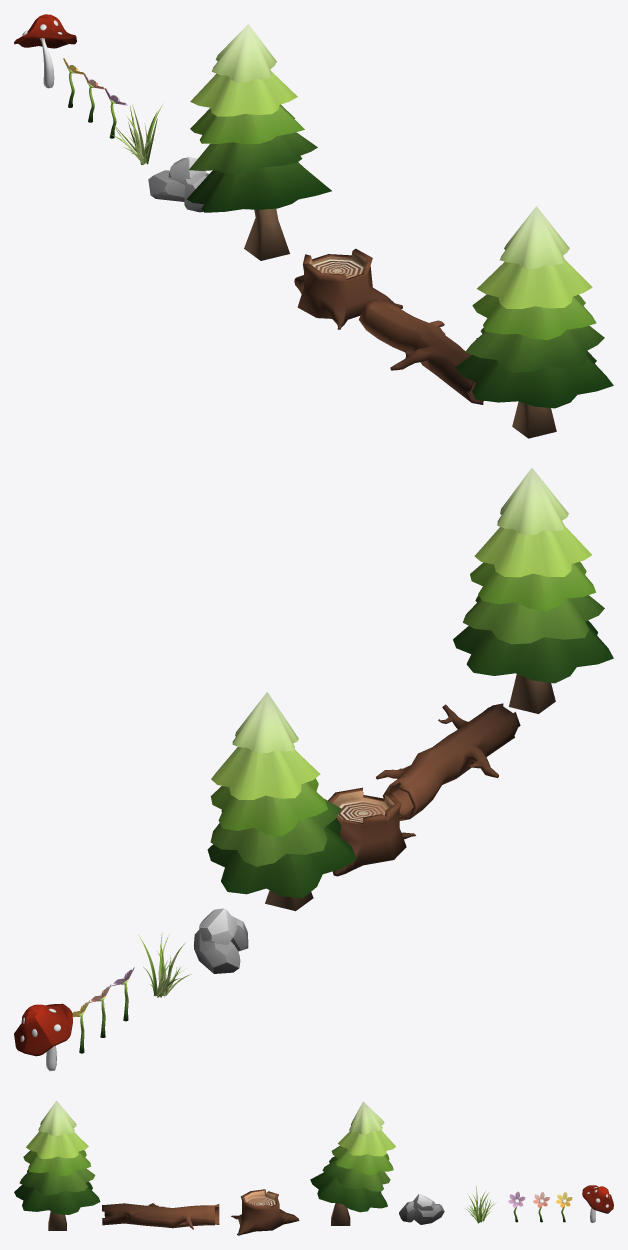
Rendered from NATURE (1).fbx.
The picture shows the model from 3 angles, top to bottom: view 1: azimuth 30°, elevation 25°; view 2: azimuth 150°, elevation 25°; view 3: azimuth 270°, elevation 25°; orthographic projection. The views are drawn at different scales.
Visible parts, largest first — view 1: Circle, Circle.005, Circle.010, Circle.011, Sphere.002, Sphere.008, Plane.001; view 2: Circle, Circle.005, Circle.010, Circle.011, Sphere.002, Sphere.008, Plane.001; view 3: Circle, Circle.005, Circle.010, Circle.011, Sphere.002, Sphere.008, Plane.001, Circle.003, Circle.017.
Part boxes in pixels (x1=…): Circle: x1=455, y1=206, x2=613, y2=438; Circle.005: x1=186, y1=24, x2=331, y2=260; Circle.010: x1=359, y1=298, x2=484, y2=404; Circle.011: x1=294, y1=248, x2=402, y2=329; Sphere.002: x1=148, y1=157, x2=209, y2=212; Sphere.008: x1=14, y1=14, x2=76, y2=88; Plane.001: x1=110, y1=103, x2=163, y2=164; Circle: x1=453, y1=468, x2=613, y2=713; Circle.005: x1=207, y1=692, x2=356, y2=911; Circle.010: x1=376, y1=703, x2=520, y2=820; Circle.011: x1=328, y1=787, x2=415, y2=876; Sphere.002: x1=193, y1=908, x2=248, y2=973; Sphere.008: x1=14, y1=1003, x2=72, y2=1071; Plane.001: x1=138, y1=931, x2=191, y2=997; Circle: x1=14, y1=1100, x2=100, y2=1230; Circle.005: x1=310, y1=1101, x2=395, y2=1225; Circle.010: x1=102, y1=1203, x2=219, y2=1229; Circle.011: x1=231, y1=1189, x2=299, y2=1235; Sphere.002: x1=399, y1=1194, x2=444, y2=1224; Sphere.008: x1=582, y1=1185, x2=613, y2=1222; Plane.001: x1=466, y1=1186, x2=496, y2=1223; Circle.003: x1=508, y1=1191, x2=525, y2=1222; Circle.017: x1=533, y1=1192, x2=549, y2=1222.
Size of the model in its own units: 1135 by 1681 by 7065.
24 materials, 24 textured.
